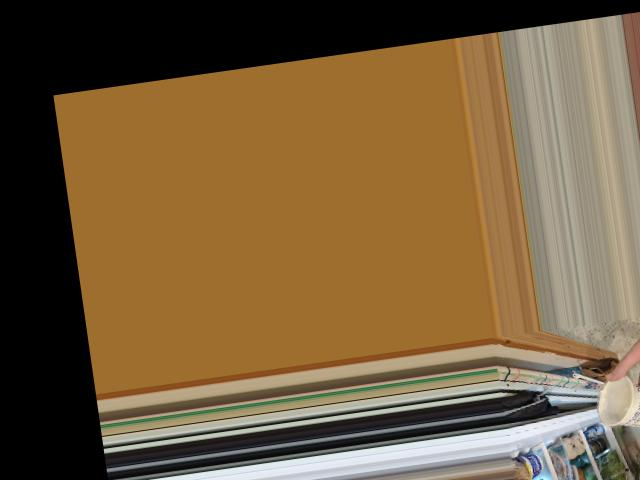cotage: (594, 374, 640, 428)
